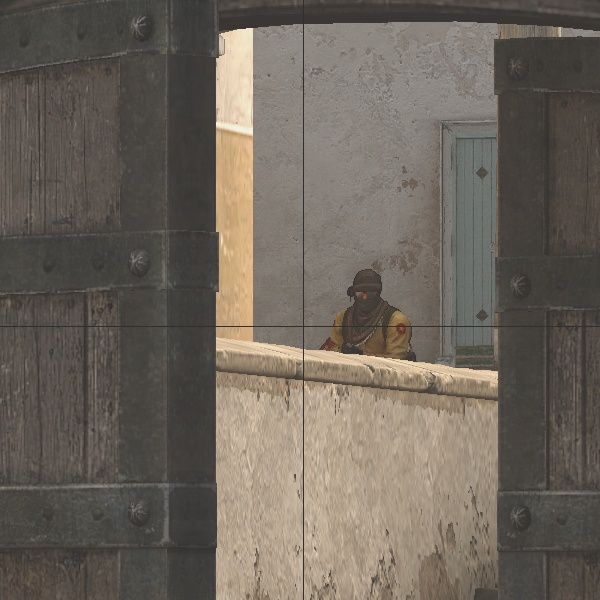t_body: (326, 268, 413, 358)
t_head: (348, 266, 385, 315)
